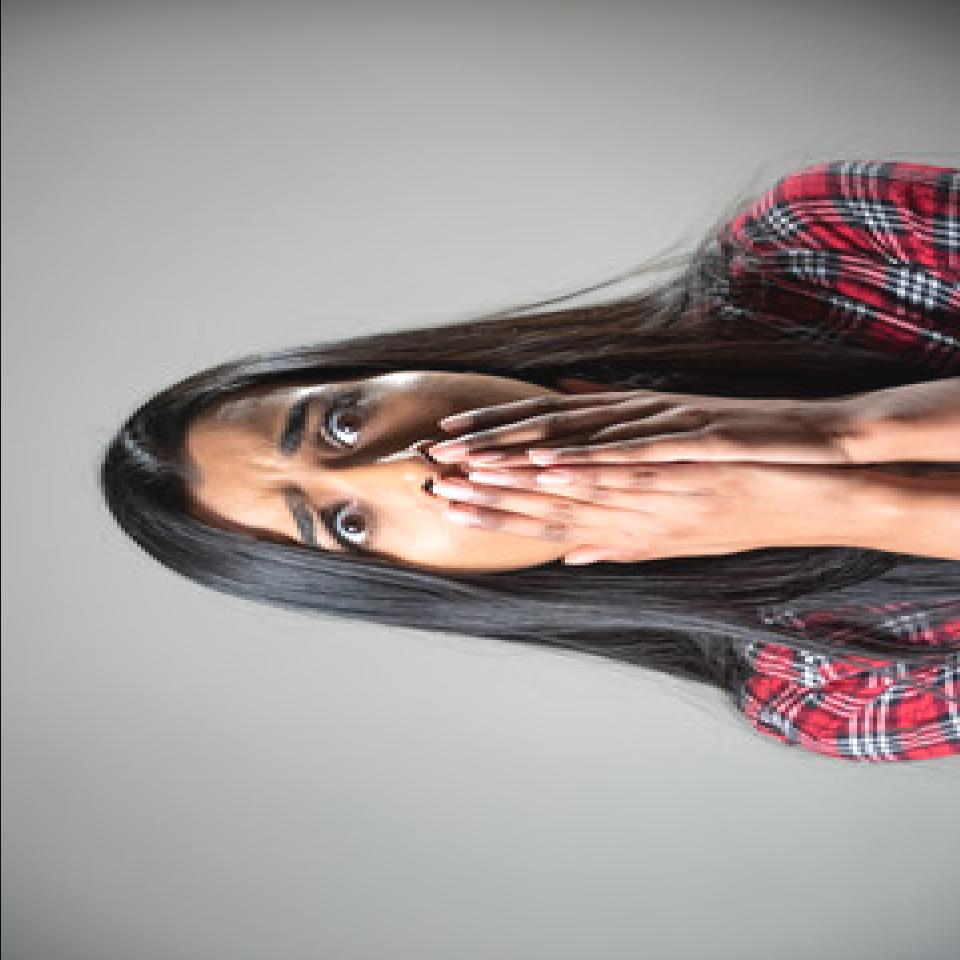Scared: (236, 362, 694, 570)
